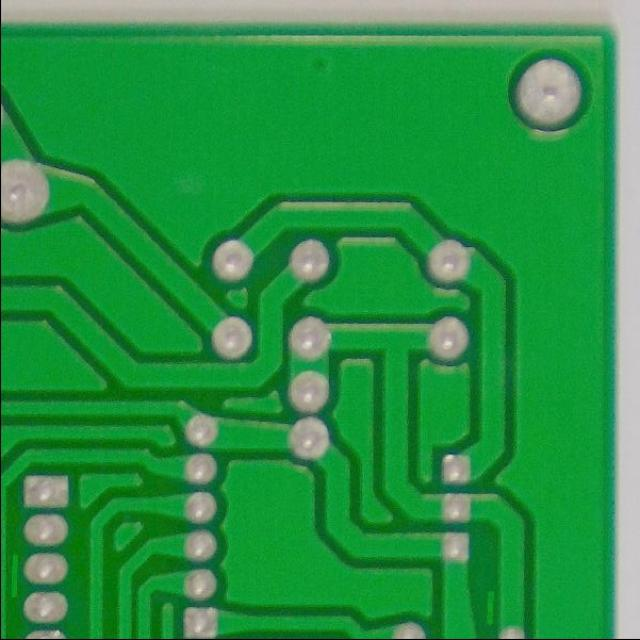Spurious_Cooper: (5, 548, 22, 600), (479, 585, 498, 628)
